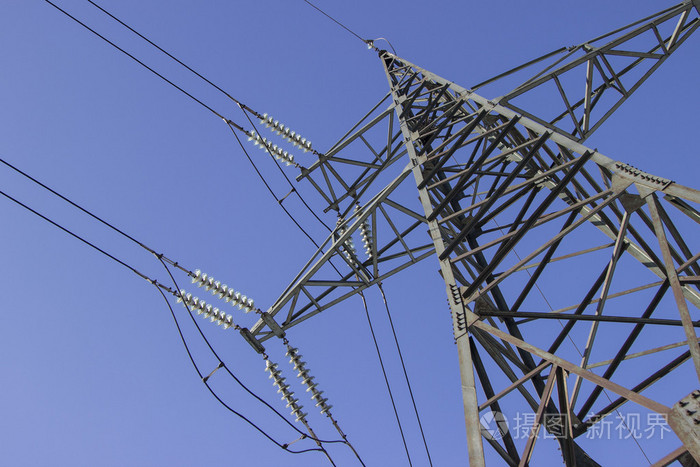insulator: (189, 268, 255, 312), (287, 346, 330, 412), (265, 363, 306, 422), (174, 289, 234, 327), (260, 112, 313, 155), (247, 132, 295, 168), (352, 203, 375, 255), (335, 218, 356, 259)
